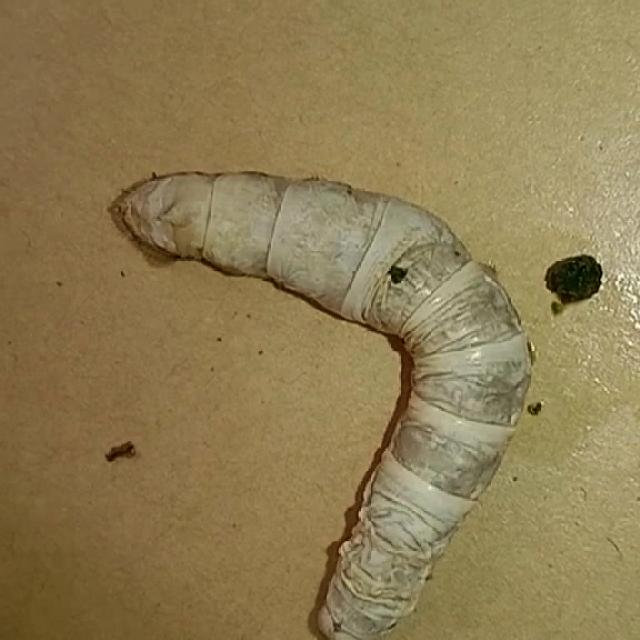Grasserie: (91, 130, 538, 640)
